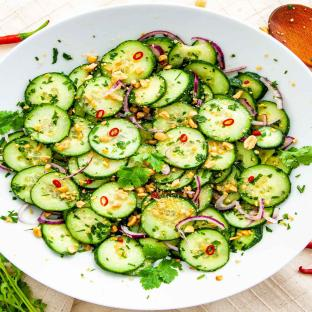Cucumber: (141, 196, 197, 240), (101, 41, 155, 84), (199, 99, 251, 142), (239, 165, 290, 207), (179, 229, 229, 271), (157, 127, 206, 169), (89, 119, 140, 159), (77, 77, 124, 117), (25, 73, 75, 110), (31, 173, 79, 211), (25, 104, 70, 143), (95, 238, 145, 272), (3, 137, 52, 171), (91, 182, 136, 219), (66, 207, 111, 243), (53, 116, 94, 155), (151, 69, 193, 107), (11, 165, 48, 205), (185, 60, 229, 93), (77, 151, 127, 180), (194, 205, 231, 240), (153, 102, 197, 131), (168, 42, 216, 68), (41, 224, 80, 255), (129, 75, 166, 106), (257, 101, 289, 134), (223, 208, 266, 229), (207, 139, 236, 170), (236, 72, 267, 100), (155, 170, 196, 191), (214, 166, 240, 194), (232, 226, 262, 250), (235, 142, 260, 169), (72, 101, 102, 122), (256, 127, 284, 149), (265, 152, 292, 174), (234, 87, 257, 111), (143, 38, 174, 55), (73, 173, 108, 188), (151, 168, 184, 183), (123, 259, 153, 275), (69, 64, 89, 87), (0, 131, 24, 148), (139, 238, 170, 250), (255, 146, 275, 164), (210, 168, 232, 184), (199, 184, 212, 211), (198, 168, 213, 186), (200, 83, 213, 101), (135, 144, 156, 155), (140, 129, 154, 144), (214, 94, 232, 99)
